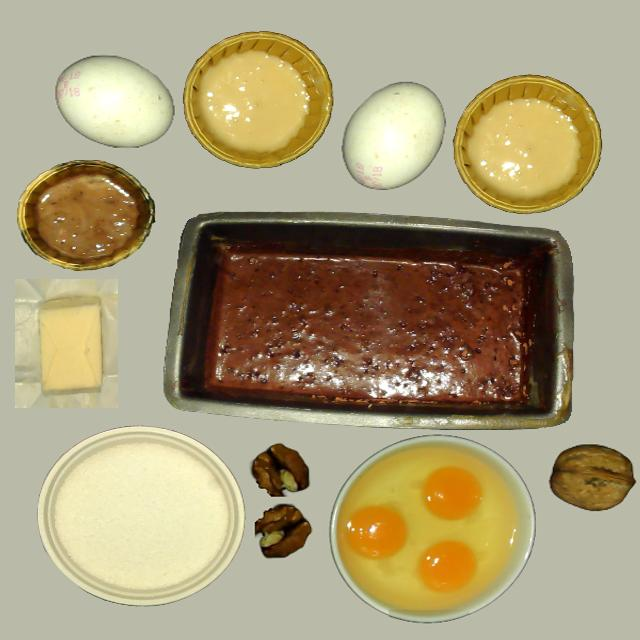Egg: (342, 448, 510, 608), (346, 506, 408, 559), (422, 467, 482, 520)
Walnut: (550, 445, 634, 511)
